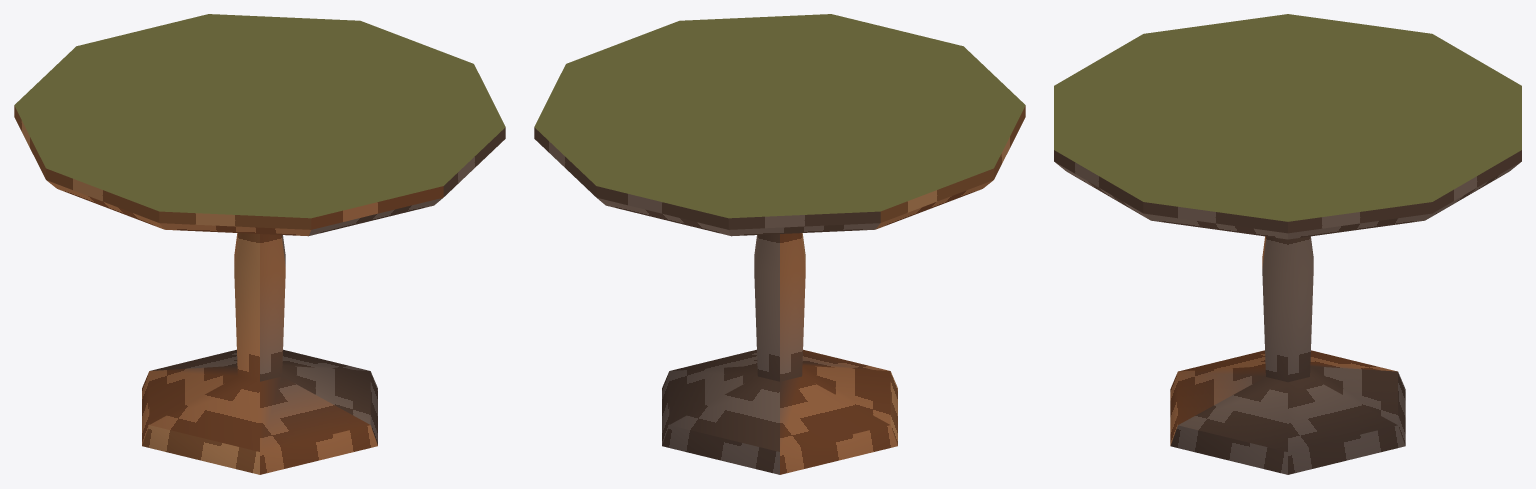
The model's file is wprop.table__card.glb.
The picture shows the model from 3 angles, left to right: view 1: azimuth 30°, elevation 25°; view 2: azimuth 150°, elevation 25°; view 3: azimuth 270°, elevation 25°; orthographic projection.
Parts seen in each view (by area): view 1: kit_top, kit_pedestal; view 2: kit_top, kit_pedestal; view 3: kit_top, kit_pedestal.
Boxes of the visible parts, x1=… form: kit_top: x1=14, y1=14, x2=505, y2=236; kit_pedestal: x1=142, y1=233, x2=377, y2=474; kit_top: x1=534, y1=14, x2=1025, y2=236; kit_pedestal: x1=662, y1=233, x2=897, y2=474; kit_top: x1=1054, y1=14, x2=1521, y2=239; kit_pedestal: x1=1170, y1=236, x2=1405, y2=474.
Bounding box in the file's own units: 1.16 × 0.78 × 1.1.
Materials: 2 (2 with a texture image).
